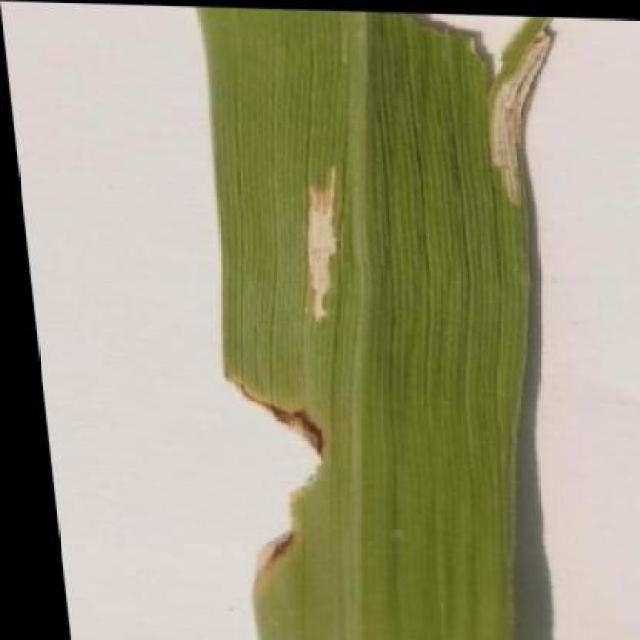Brown_Spot: (164, 3, 638, 640)
